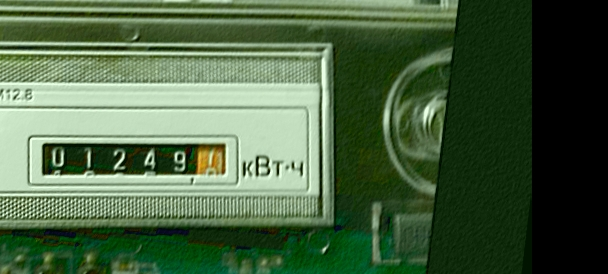0: (46, 143, 68, 171)
1: (78, 145, 96, 172)
2: (108, 147, 131, 175)
4: (140, 145, 161, 174)
7: (201, 144, 219, 170)
9: (169, 148, 190, 175)
screen: (15, 114, 256, 217)
